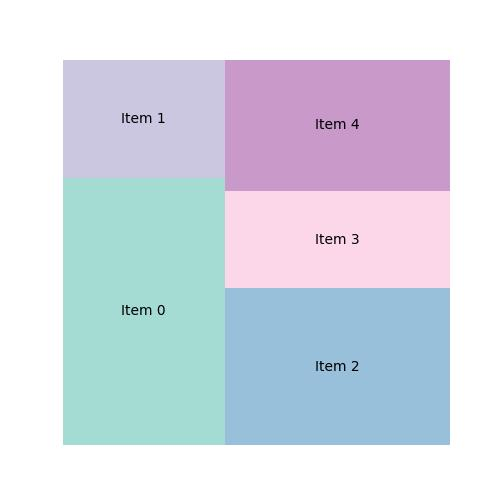rectangle: (64, 179, 226, 446), (226, 288, 451, 445), (223, 60, 449, 191), (225, 189, 451, 289), (63, 59, 224, 179)
